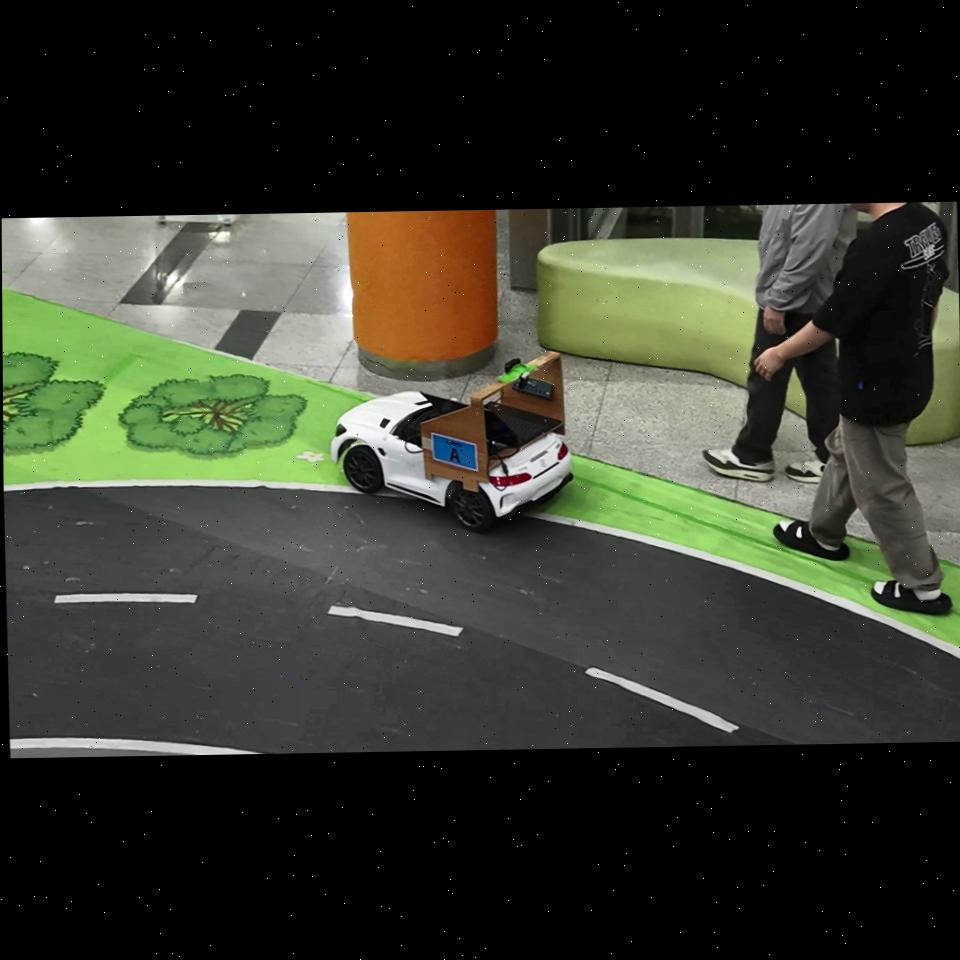broken_line: (585, 668, 739, 732), (327, 605, 462, 636), (55, 593, 199, 603)
